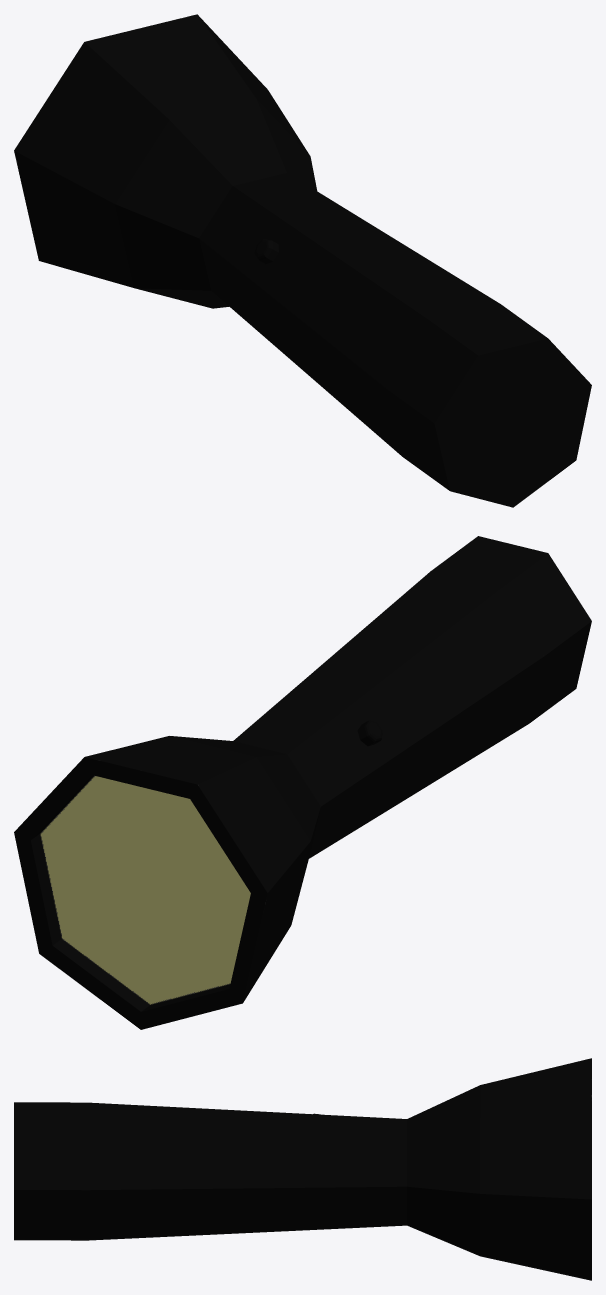
File: flashlight.fbx
The picture shows the model from 3 angles, top to bottom: view 1: azimuth 30°, elevation 25°; view 2: azimuth 150°, elevation 25°; view 3: azimuth 270°, elevation 25°; orthographic projection. The views are drawn at different scales.
Visible parts, largest first — view 1: Cylinder; view 2: Cylinder; view 3: Cylinder.
Boxes of the visible parts, box(x1,y1,x2,y2) form: Cylinder: box(14, 14, 591, 507); Cylinder: box(14, 536, 591, 1029); Cylinder: box(14, 1058, 591, 1280).
Bounding box in the file's own units: 183 × 178 × 464.
